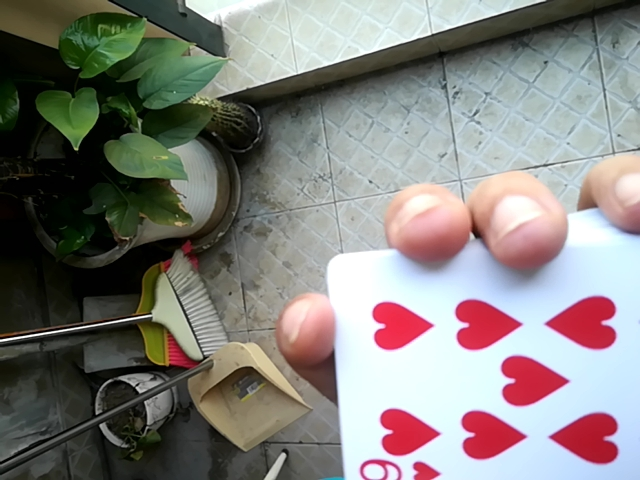hx 9: (314, 176, 640, 475)
